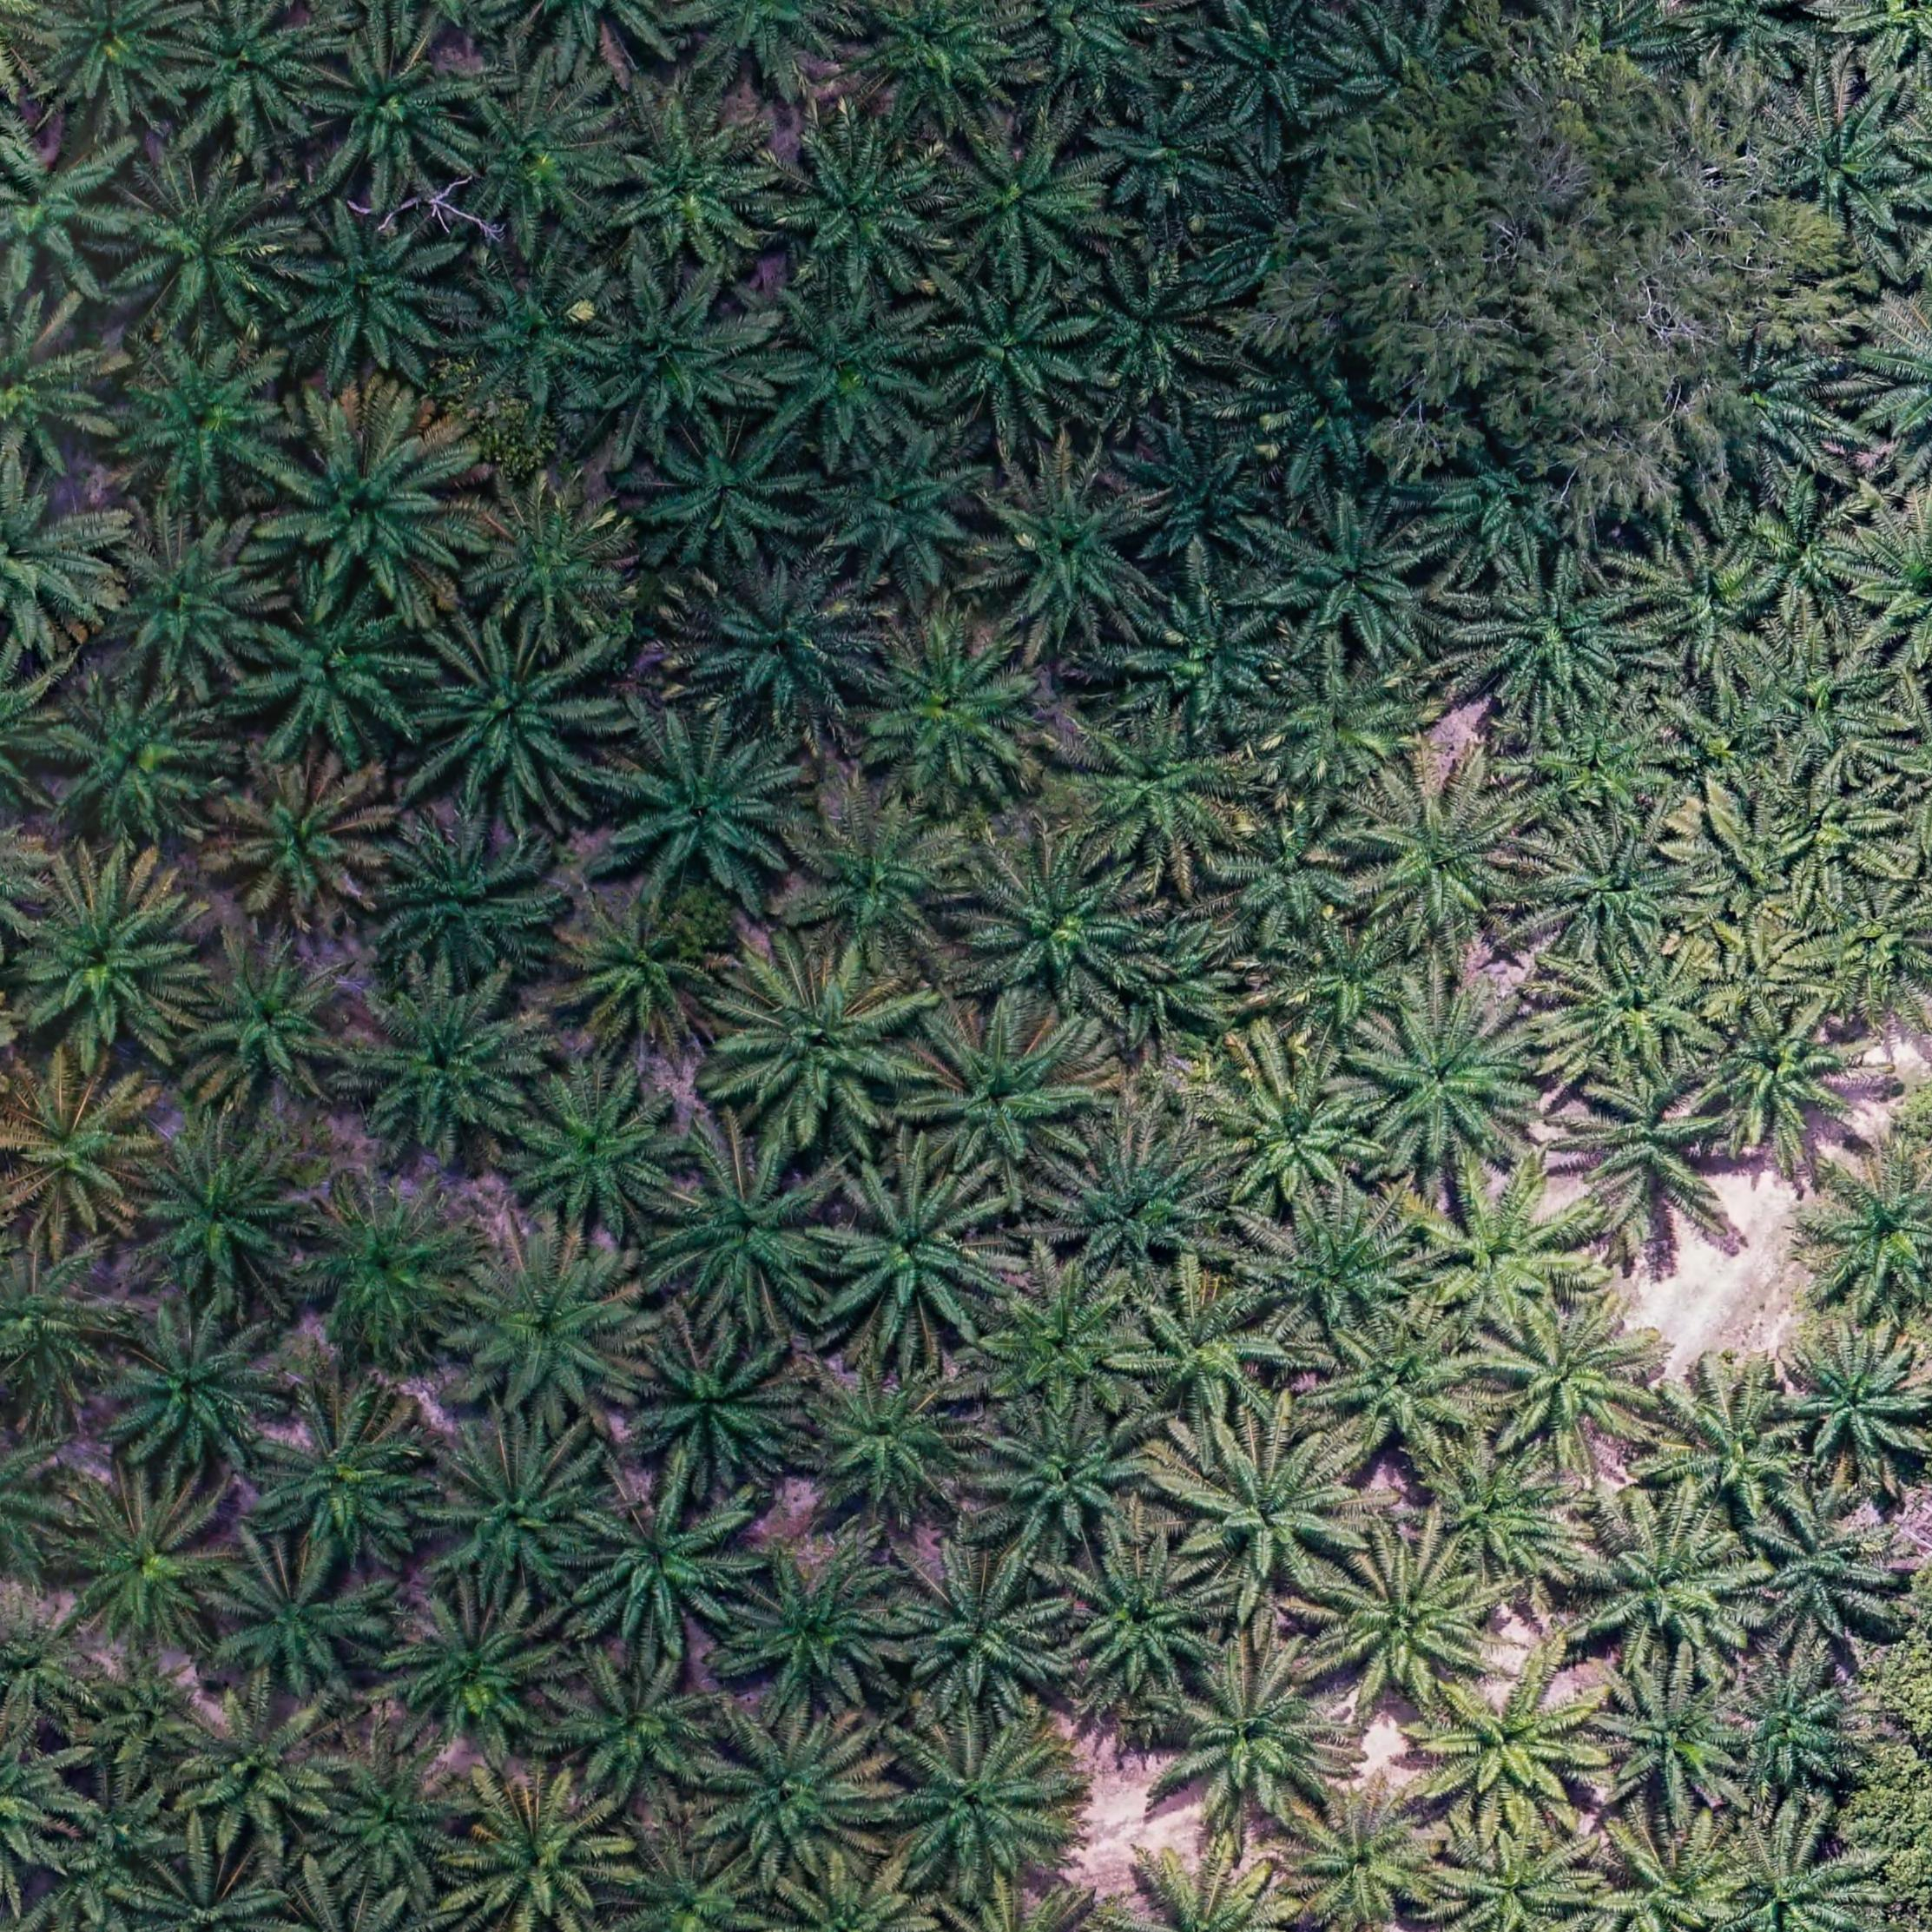palmtree: (249, 400, 485, 626), (398, 614, 630, 832), (708, 939, 939, 1155), (591, 706, 823, 920), (435, 1228, 662, 1435), (4, 847, 214, 1067), (333, 966, 552, 1168), (644, 1132, 853, 1338), (849, 614, 1060, 816), (663, 548, 886, 738), (168, 932, 379, 1132), (810, 1150, 1012, 1357), (1157, 1412, 1371, 1606), (962, 449, 1166, 651), (117, 1113, 324, 1311), (948, 828, 1159, 1023), (285, 1169, 492, 1366), (366, 1583, 575, 1776), (97, 150, 308, 341), (1152, 1637, 1353, 1835), (563, 1468, 768, 1663), (232, 575, 437, 770), (242, 1380, 444, 1576), (412, 1414, 619, 1605), (1470, 1286, 1674, 1477), (97, 329, 303, 518), (538, 878, 745, 1065), (872, 1713, 1083, 1897), (775, 784, 977, 975), (34, 667, 241, 853), (695, 1704, 902, 1890), (262, 205, 464, 393), (44, 1470, 242, 1660), (1343, 987, 1543, 1175), (757, 115, 955, 303), (203, 754, 403, 939), (1407, 1647, 1608, 1831), (96, 1297, 295, 1481), (902, 1001, 1100, 1185), (745, 280, 945, 462), (494, 1058, 688, 1244), (92, 517, 287, 702), (571, 271, 771, 451), (881, 1539, 1077, 1721), (787, 1350, 985, 1529), (359, 810, 563, 984), (1309, 1529, 1500, 1709), (927, 111, 1120, 290), (1569, 1499, 1764, 1675), (625, 416, 824, 587), (964, 1398, 1168, 1566), (593, 96, 782, 276), (1031, 1115, 1228, 1288), (623, 1316, 816, 1491), (803, 426, 996, 602), (540, 1644, 736, 1815), (439, 1762, 637, 1930), (1051, 1530, 1235, 1709), (1461, 557, 1656, 725), (166, 1686, 352, 1861), (455, 472, 644, 644), (1260, 490, 1449, 662), (1306, 1304, 1499, 1472), (1730, 1483, 1909, 1663), (1113, 1258, 1299, 1431), (297, 27, 485, 198), (1346, 770, 1529, 945), (725, 1546, 913, 1714), (1407, 1169, 1594, 1338), (915, 267, 1099, 437), (1690, 994, 1875, 1162), (209, 1537, 400, 1700), (1062, 702, 1253, 865), (1562, 1063, 1732, 1242), (442, 80, 630, 241), (971, 1265, 1154, 1428), (446, 244, 623, 410), (0, 784, 163, 962), (1274, 1776, 1460, 1932), (1585, 1654, 1760, 1819), (310, 1737, 481, 1904), (1244, 1192, 1431, 1345), (1638, 1371, 1812, 1536), (1203, 1053, 1380, 1214), (1407, 1431, 1587, 1589), (157, 0, 338, 150), (1253, 656, 1435, 805), (1067, 251, 1238, 409), (1537, 936, 1721, 1083), (837, 0, 1031, 134), (1118, 582, 1284, 734), (0, 1226, 134, 1414), (0, 290, 124, 492), (1743, 614, 1886, 787), (0, 458, 122, 662), (1118, 425, 1279, 579), (1527, 816, 1695, 961), (25, 0, 205, 134), (1799, 1148, 1932, 1330), (1782, 1320, 1932, 1477), (1208, 798, 1369, 945), (1725, 1652, 1881, 1799), (64, 1638, 223, 1782), (1102, 908, 1263, 1049), (1184, 0, 1352, 131), (1684, 778, 1819, 941), (1516, 702, 1674, 835), (41, 1778, 180, 1927), (662, 0, 867, 101), (1426, 1815, 1603, 1932), (1635, 536, 1782, 676), (1585, 1817, 1762, 1932), (1092, 83, 1240, 218), (998, 0, 1173, 106), (1276, 922, 1419, 1049), (1716, 1824, 1881, 1932), (1644, 667, 1771, 798), (0, 1587, 103, 1737), (1851, 504, 1932, 676), (1819, 890, 1932, 1005), (1881, 694, 1932, 817)
